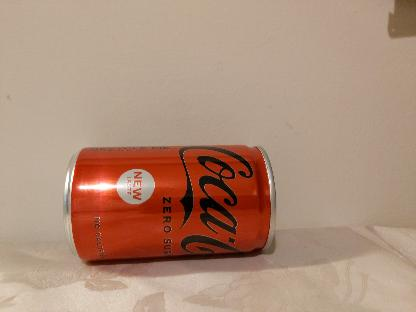Can: (63, 144, 277, 266)
